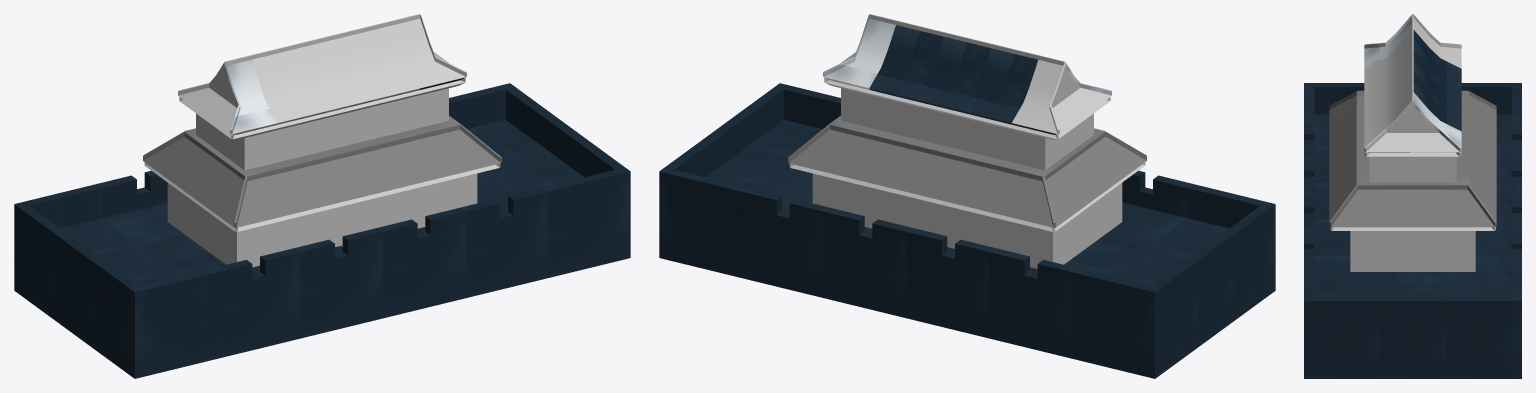
File: building 2 (dark).fbx
3 views of the same model, side by side, from view 1: azimuth 30°, elevation 25°; view 2: azimuth 150°, elevation 25°; view 3: azimuth 270°, elevation 25° (orthographic). The views are drawn at different scales.
Visible parts, largest first — view 1: Plane153; view 2: Plane153; view 3: Plane153.
Boxes of the visible parts, x1,y1,x2,y2 form: Plane153: [14, 14, 630, 378]; Plane153: [659, 14, 1275, 378]; Plane153: [1304, 14, 1521, 378].
Bounding box in the file's own units: 273 × 124 × 115.
